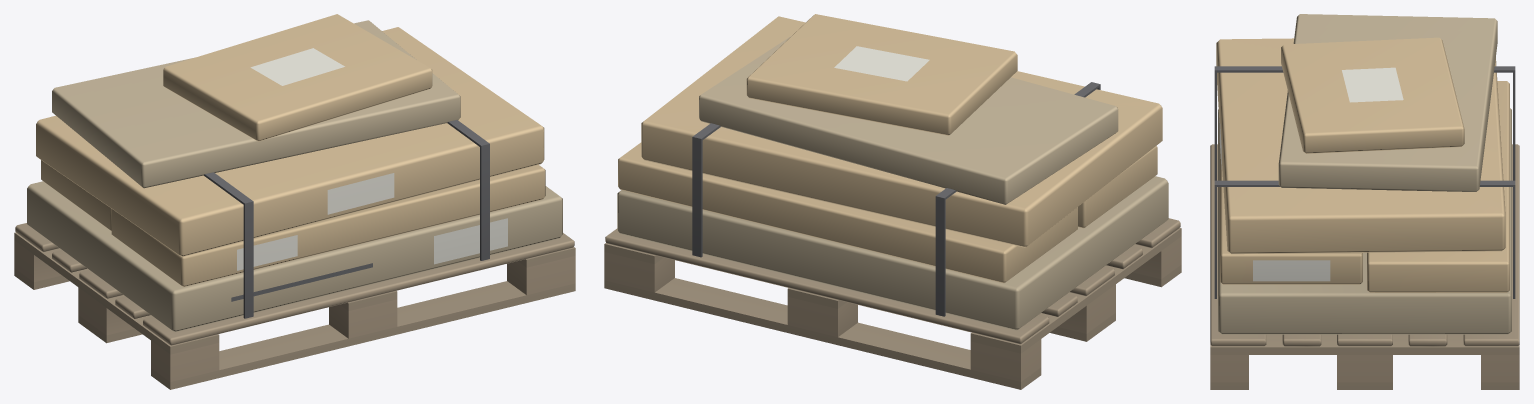
The model's file is flatpack.glb.
3 views of the same model, side by side, from view 1: azimuth 30°, elevation 25°; view 2: azimuth 150°, elevation 25°; view 3: azimuth 270°, elevation 25° (orthographic). The views are drawn at different scales.
Visible parts, largest first — view 1: showroom_flatpack; view 2: showroom_flatpack; view 3: showroom_flatpack.
Boxes of the visible parts, box(x1,y1,x2,y2) form: showroom_flatpack: box(14, 14, 575, 389); showroom_flatpack: box(604, 14, 1181, 389); showroom_flatpack: box(1210, 14, 1519, 389).
Bounding box in the file's own units: 1.2 × 0.5995 × 0.8.
